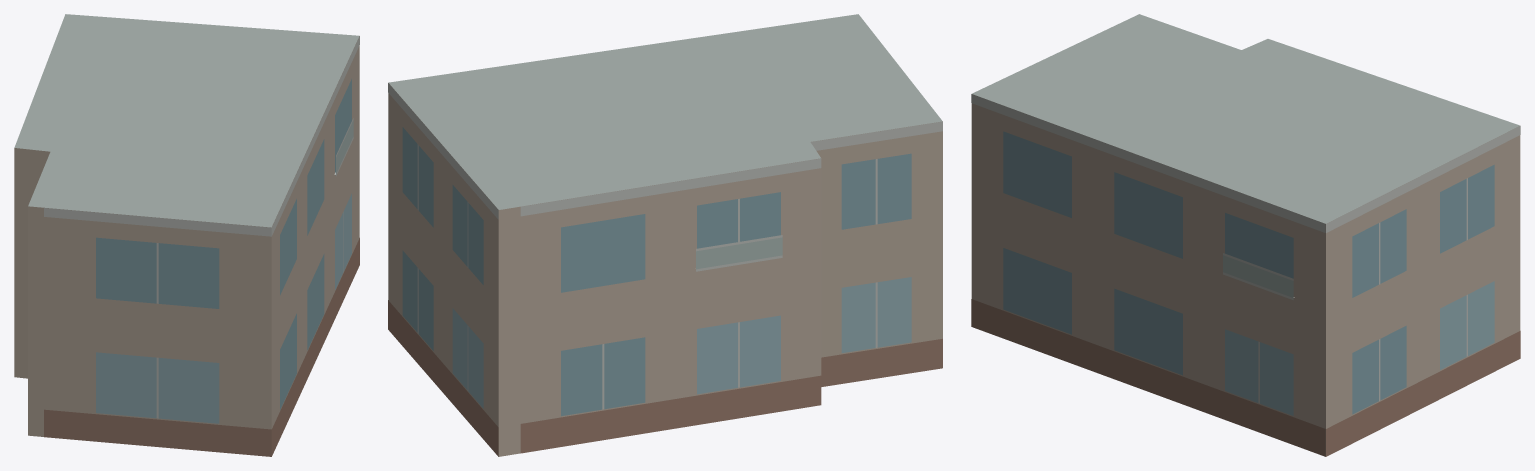
Rendered from survey-upis-32777446.glb.
The picture shows the model from 3 angles, left to right: view 1: azimuth 30°, elevation 25°; view 2: azimuth 150°, elevation 25°; view 3: azimuth 270°, elevation 25°; orthographic projection. The views are drawn at different scales.
Visible parts, largest first — view 1: survey-upis-32777446.tmp; view 2: survey-upis-32777446.tmp; view 3: survey-upis-32777446.tmp.
Boxes of the visible parts, left/top/right/bottom form: survey-upis-32777446.tmp: left=14, top=14, right=359, bottom=456; survey-upis-32777446.tmp: left=388, top=14, right=942, bottom=456; survey-upis-32777446.tmp: left=971, top=14, right=1520, bottom=456.
Size of the model in its own units: 11.8 by 6.1 by 13.04.
